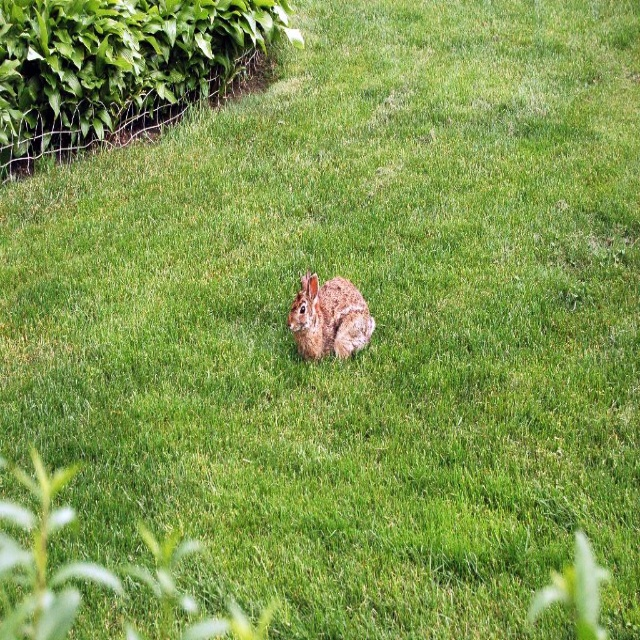Rabbit: (283, 273, 377, 359)
